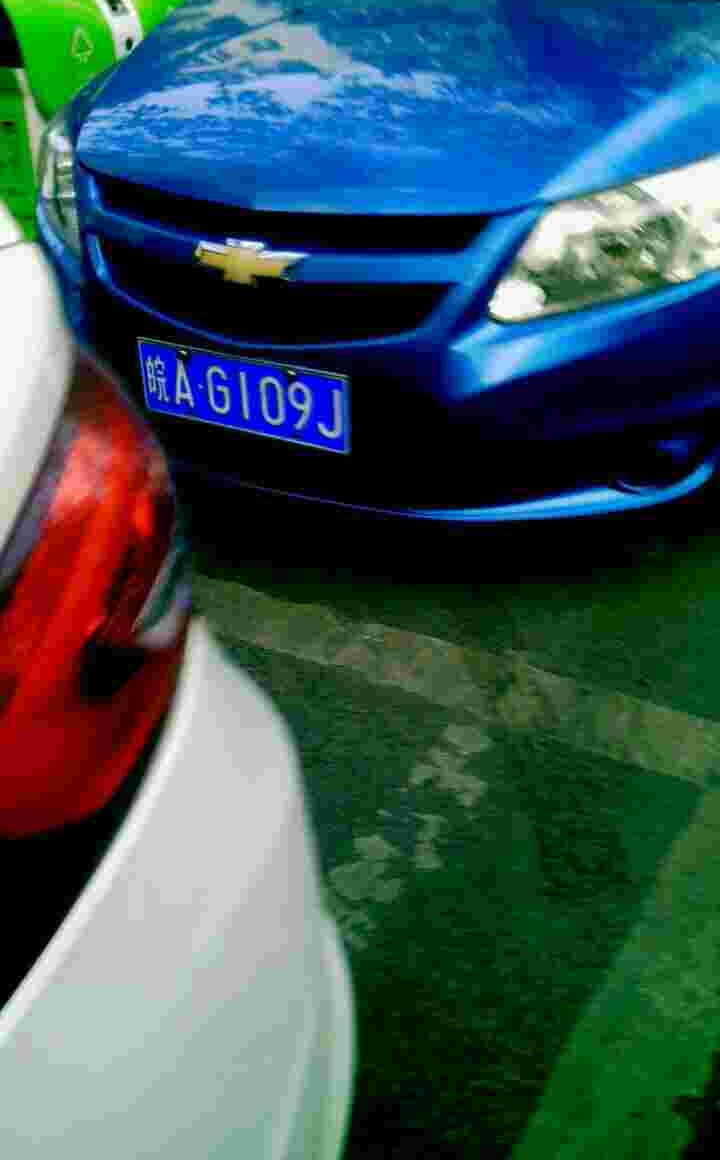license_plate: (137, 336, 371, 463)
